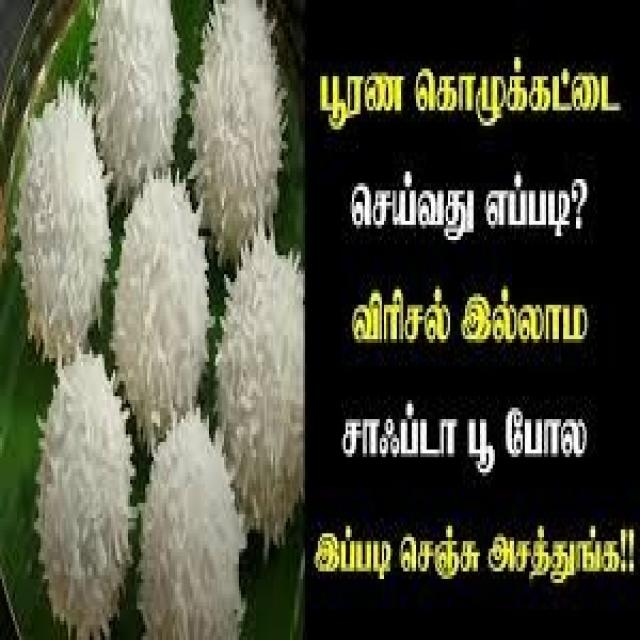poorna kolukattai: (12, 0, 304, 622)
